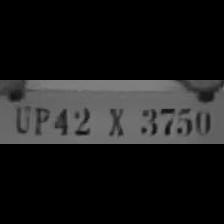0: (194, 107, 212, 135)
2: (69, 104, 95, 136)
3: (136, 104, 156, 136)
4: (49, 104, 69, 136)
5: (174, 104, 194, 136)
7: (156, 104, 176, 136)
P: (30, 104, 50, 136)
U: (9, 102, 31, 136)
X: (97, 103, 130, 137)
